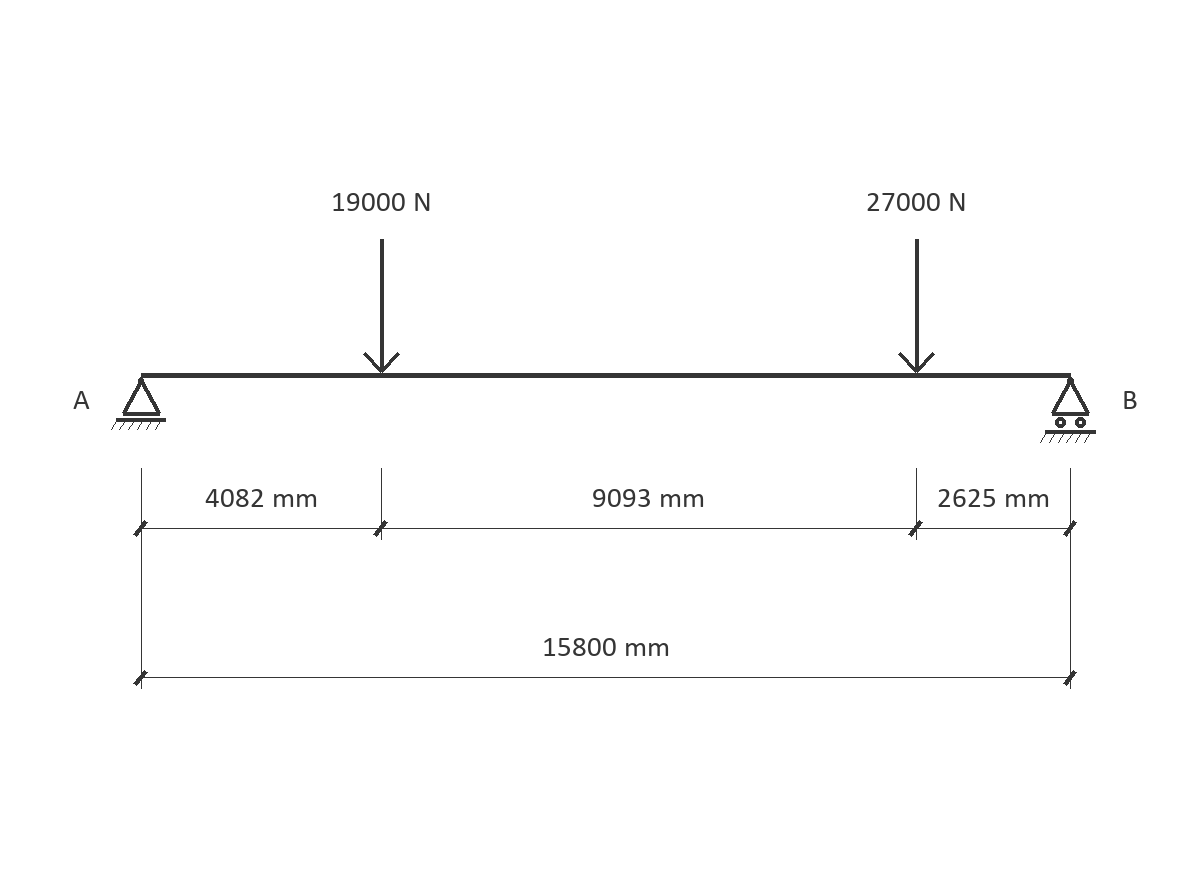pin_support: (111, 377, 166, 430)
point_load: (363, 239, 400, 373), (898, 239, 935, 373)
roller_support: (1040, 377, 1096, 443)
